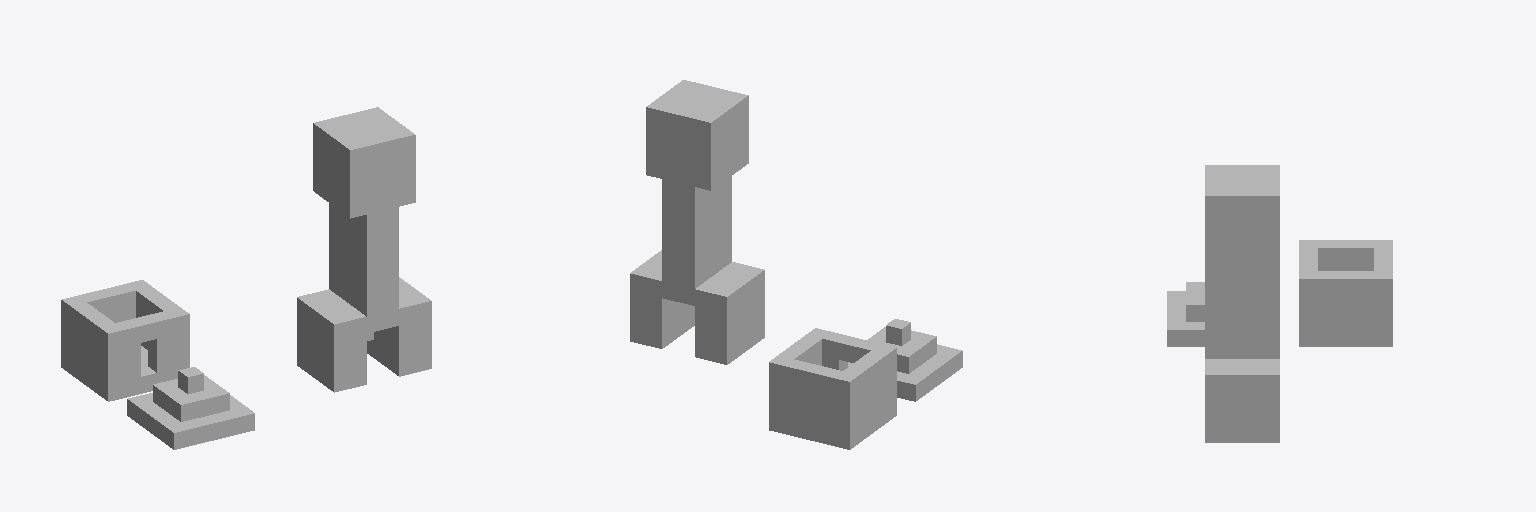
The model's file is Fun.obj.
The picture shows the model from 3 angles: view 1: azimuth 30°, elevation 25°; view 2: azimuth 150°, elevation 25°; view 3: azimuth 270°, elevation 25°; orthographic projection.
Parts seen in each view (by area): view 1: Object16, Object0, Object15, Object2; view 2: Object16, Object0, Object15, Object2; view 3: Object16, Object0, Object2.
Boxes of the visible parts, x1,y1,x2,y2 form: Object16: [313, 107, 431, 376]; Object0: [61, 280, 189, 401]; Object15: [297, 203, 382, 392]; Object2: [127, 367, 254, 449]; Object16: [630, 80, 748, 348]; Object0: [769, 328, 896, 449]; Object15: [679, 176, 764, 364]; Object2: [848, 319, 962, 401]; Object16: [1205, 165, 1279, 442]; Object0: [1299, 240, 1392, 346]; Object2: [1167, 282, 1204, 346].
Bounding box in the file's own units: 25.5 × 21 × 18.